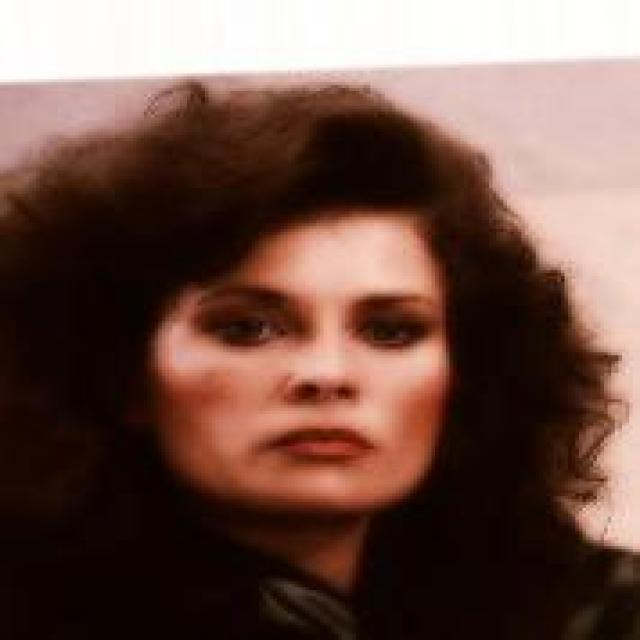bareface: (162, 140, 450, 497)
